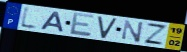A: (39, 11, 65, 34)
E: (69, 12, 96, 38)
L: (18, 5, 40, 32)
N: (121, 19, 145, 44)
V: (97, 16, 119, 39)
Z: (143, 22, 169, 47)
